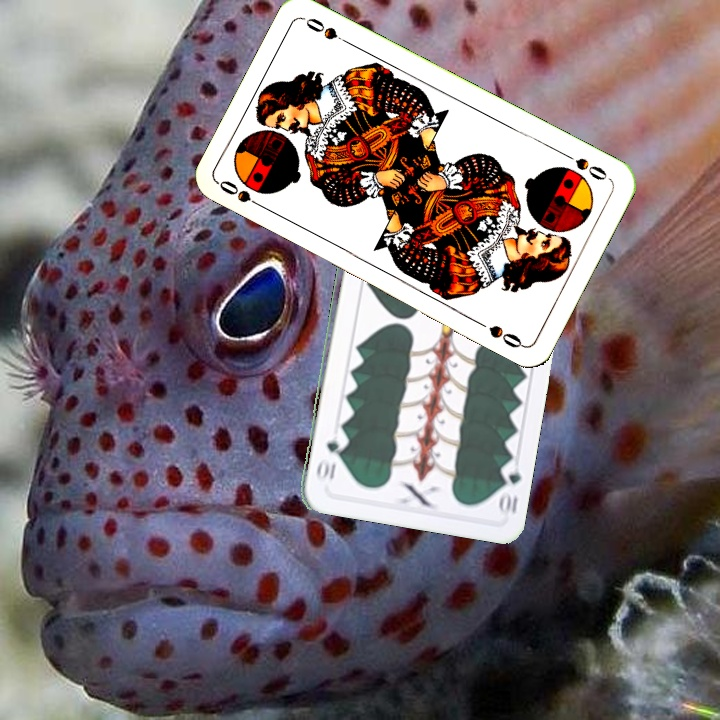G10: (494, 458, 523, 516)
SO: (215, 176, 270, 213), (558, 148, 613, 183)
